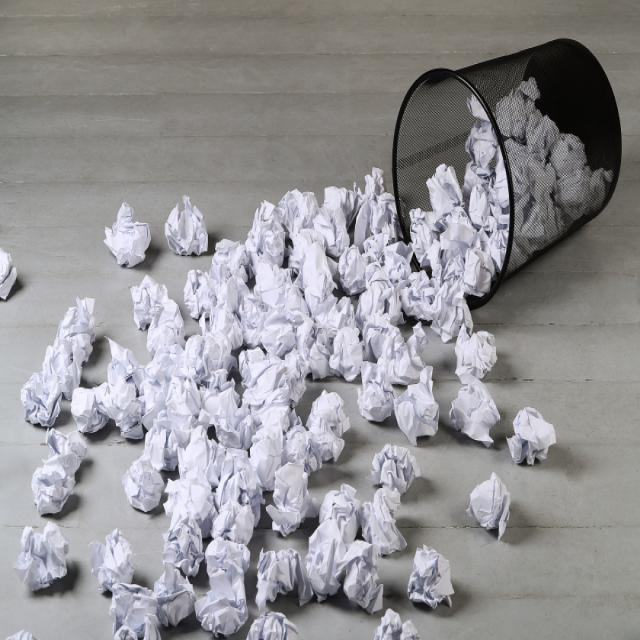Kertas: (307, 478, 420, 612), (200, 445, 272, 541), (18, 528, 94, 614), (30, 436, 91, 534), (151, 349, 202, 448), (456, 463, 519, 538), (249, 537, 308, 617), (446, 367, 502, 451), (206, 302, 266, 380), (223, 242, 324, 286), (408, 539, 465, 614), (104, 193, 158, 268), (265, 452, 315, 532), (368, 437, 424, 508), (15, 362, 80, 421), (54, 300, 120, 356), (396, 361, 437, 451), (164, 192, 213, 267), (94, 363, 144, 434), (191, 574, 252, 632), (510, 405, 562, 468), (129, 272, 180, 336), (327, 221, 379, 283), (98, 524, 136, 608), (161, 466, 213, 526), (366, 261, 421, 317), (400, 209, 448, 273), (423, 284, 478, 338), (275, 192, 335, 240), (120, 440, 162, 508), (384, 319, 430, 381), (0, 238, 35, 314), (465, 120, 508, 181), (448, 324, 494, 379), (360, 371, 398, 437), (317, 319, 373, 363), (302, 388, 348, 440), (258, 378, 298, 436), (452, 220, 488, 280), (210, 376, 251, 427), (180, 260, 225, 306), (275, 304, 309, 356), (429, 169, 463, 217), (346, 191, 383, 227), (476, 215, 498, 273)
